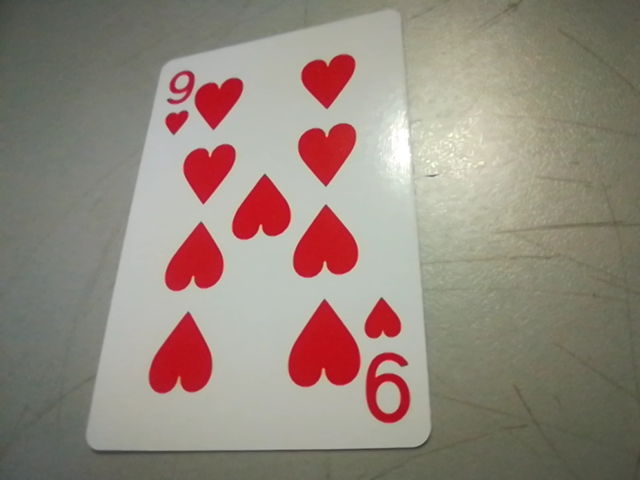hx 9: (357, 294, 421, 434)
